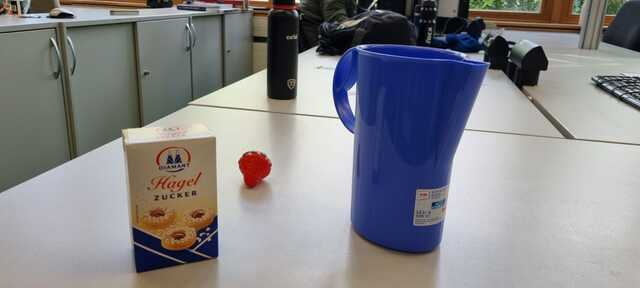004_sugar_box: (119, 123, 223, 273)
012_strawberry: (237, 149, 275, 189)
019_pitcher_base: (331, 42, 490, 256)
